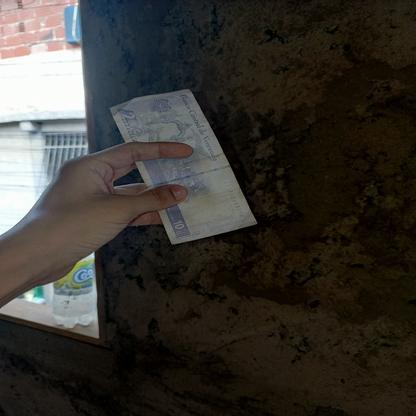ten-back-vef: (108, 90, 258, 246)
